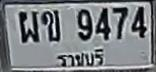4: (95, 7, 109, 39), (131, 5, 145, 37)
7: (112, 6, 127, 38)
9: (77, 8, 91, 40)
A02: (40, 9, 59, 41)
A28: (18, 10, 39, 42)
RBR: (55, 48, 107, 68)
